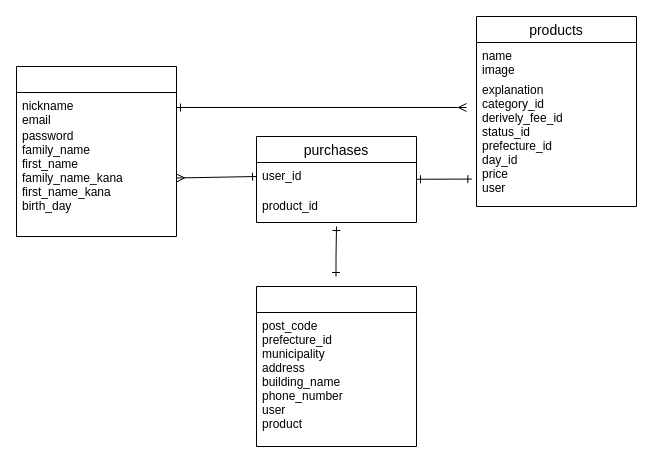
Image size: 653x463. Some labels were removed from this diagram. The shapes that lost their labels are listed below. From the top down, each one's box as (x1, y1, x2, y2) in pixels, then its label:
(16, 66, 176, 236): users
(256, 286, 416, 446): addresses
